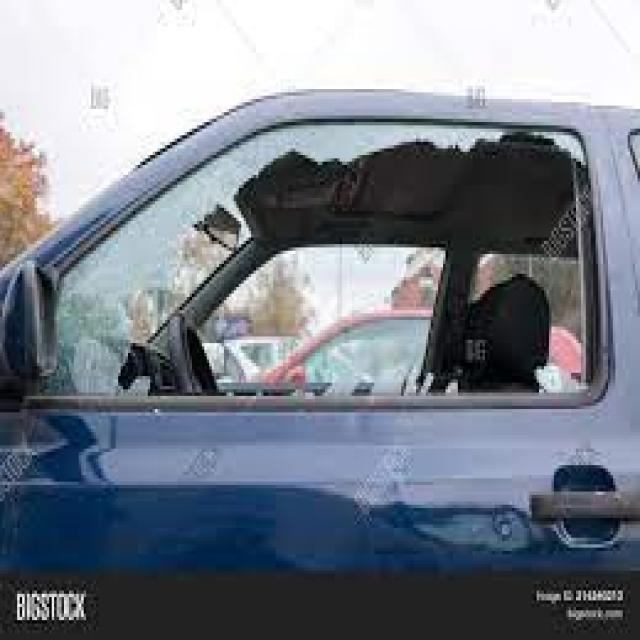damaged-window: (37, 109, 614, 412)
